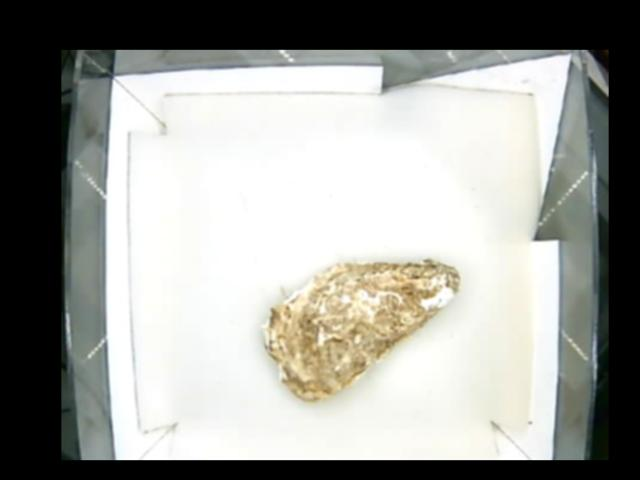Shell: (259, 260, 458, 402)
